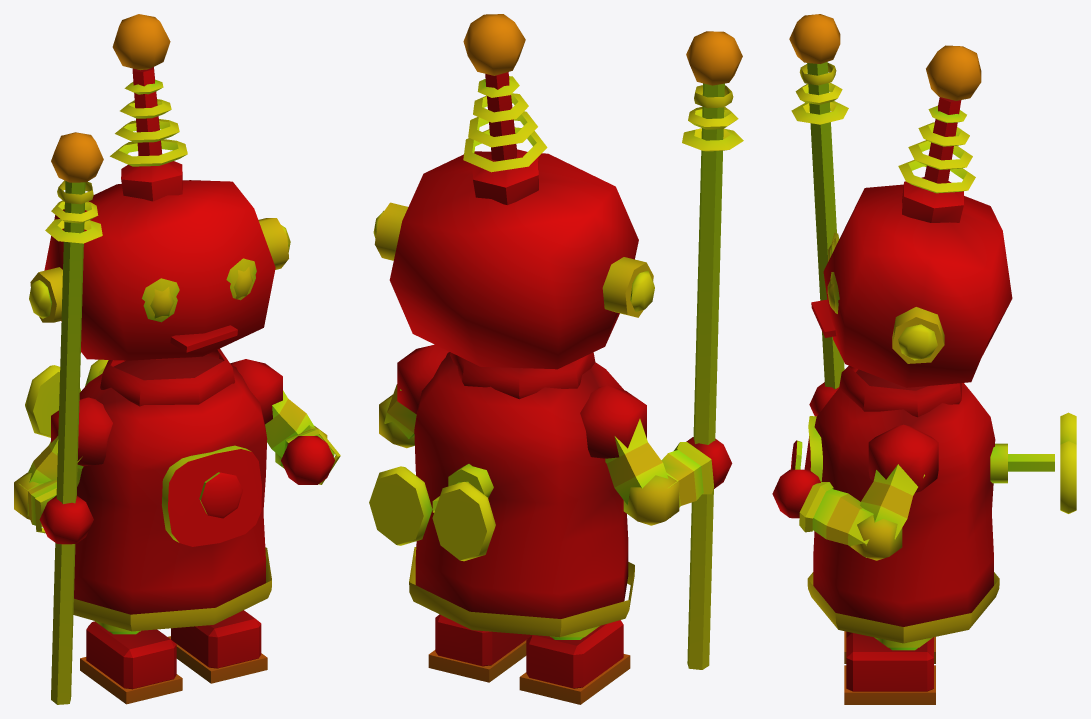
Rendered from RobotTesla_LOD1.glb.
3 views of the same model, side by side, from view 1: azimuth 30°, elevation 25°; view 2: azimuth 150°, elevation 25°; view 3: azimuth 270°, elevation 25° (orthographic). The views are drawn at different scales.
Parts seen in each view (by area): view 1: RobotTesla_LOD1; view 2: RobotTesla_LOD1; view 3: RobotTesla_LOD1.
Boxes of the visible parts, <box> form: RobotTesla_LOD1: <box>14,14,340,704</box>; RobotTesla_LOD1: <box>369,14,743,704</box>; RobotTesla_LOD1: <box>772,14,1076,704</box>.
Size of the model in its own units: 0.5099 by 1.02 by 0.452.
